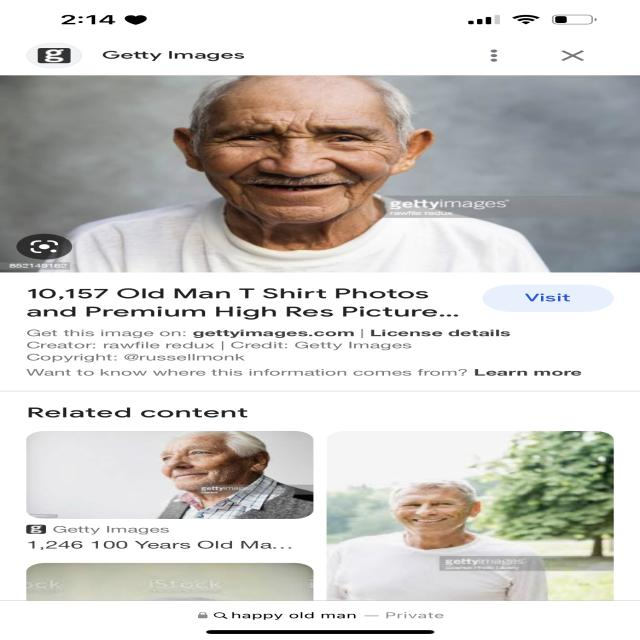happy: (200, 84, 403, 224)
